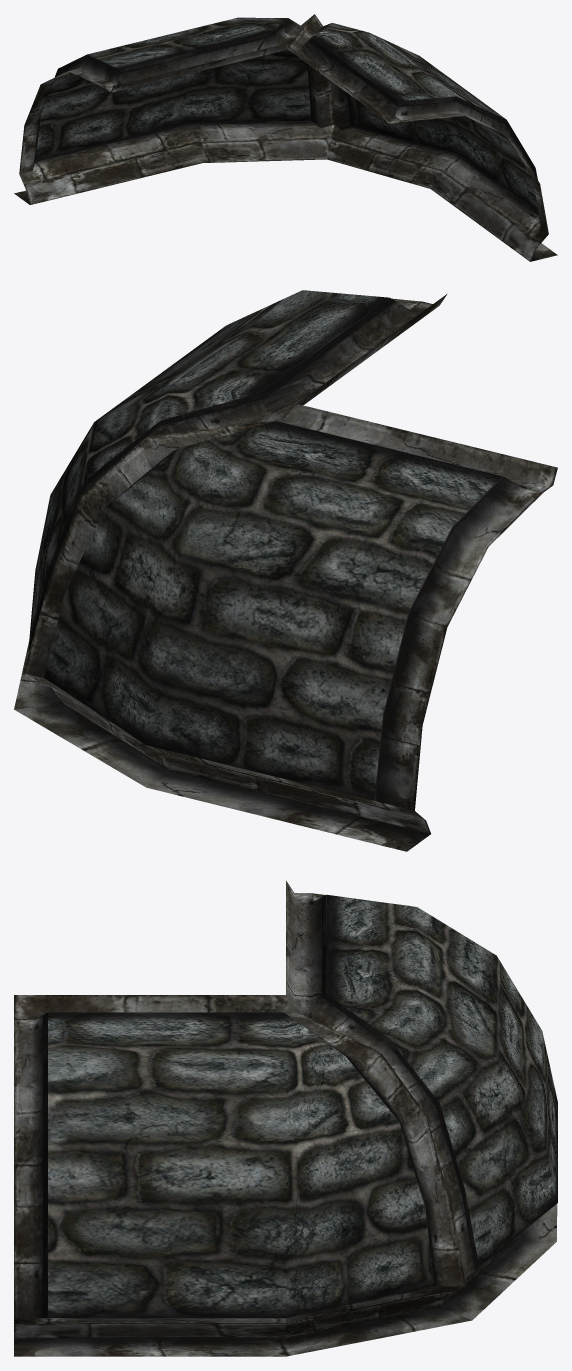
Rendered from corner_concave_round.dae.
3 renders of one model, top to bottom at view 1: azimuth 30°, elevation 25°; view 2: azimuth 150°, elevation 25°; view 3: azimuth 270°, elevation 25°, orthographic. The views are drawn at different scales.
Parts seen in each view (by area): view 1: polySurface1; view 2: polySurface1; view 3: polySurface1.
Boxes of the visible parts, box(x1,y1,x2,y2) form: polySurface1: box(14, 14, 557, 261); polySurface1: box(14, 290, 557, 851); polySurface1: box(14, 881, 557, 1356).
Bounding box in the file's own units: 4 × 2 × 4.
